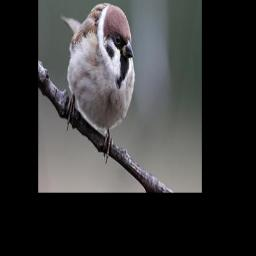Sparrow: (61, 1, 135, 162)
